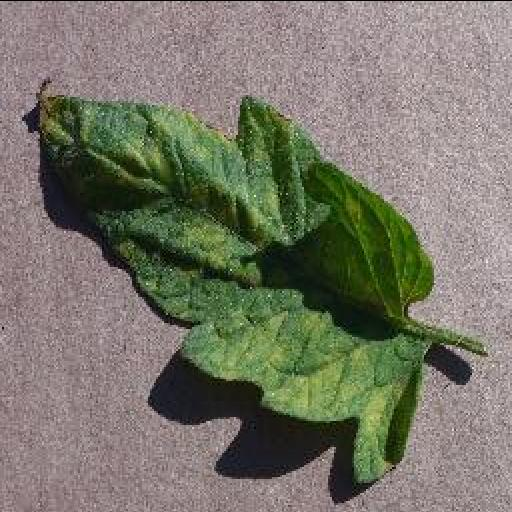disease_tomato: (36, 94, 432, 484)
